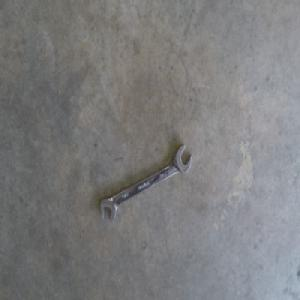Wrench: (100, 144, 192, 223)
